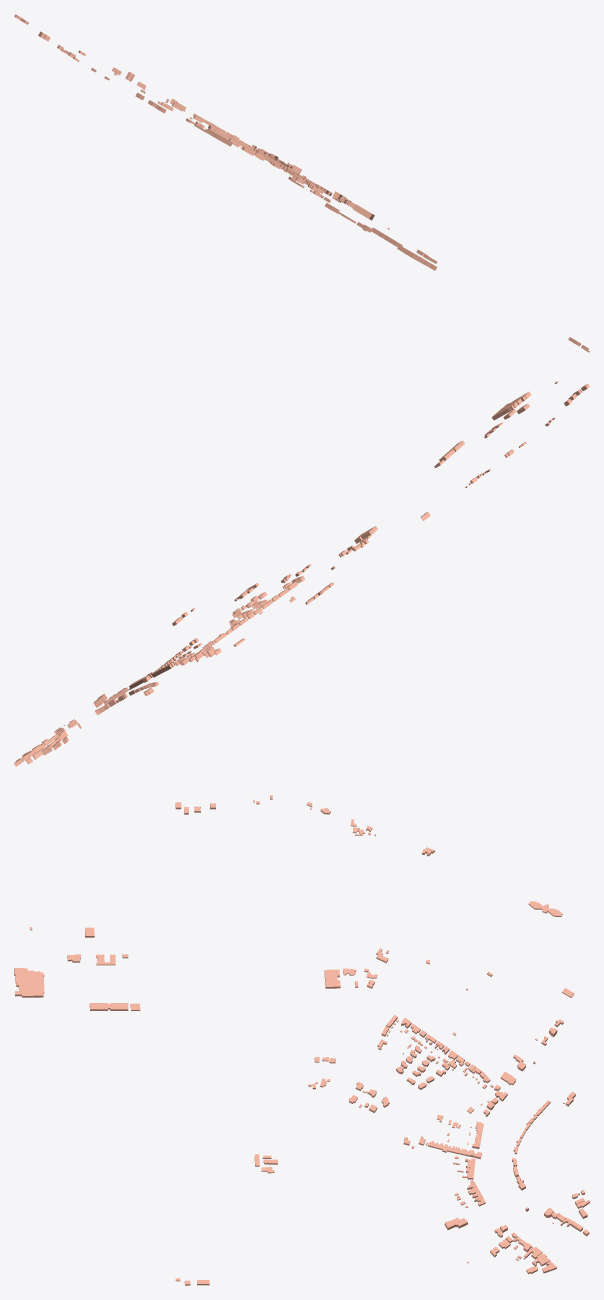
The picture shows the model from 3 angles, top to bottom: view 1: azimuth 30°, elevation 25°; view 2: azimuth 150°, elevation 25°; view 3: azimuth 270°, elevation 25°; orthographic projection. The views are drawn at different scales.
Bounding box in the file's own units: 976 × 741 × 1269.
